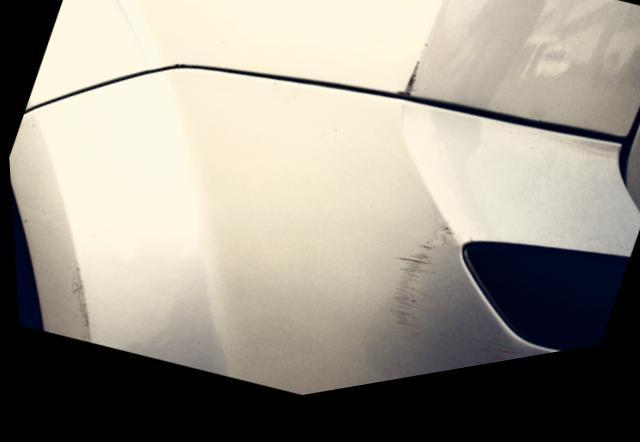scratch: (384, 237, 529, 387), (67, 268, 87, 346), (391, 74, 418, 113)
